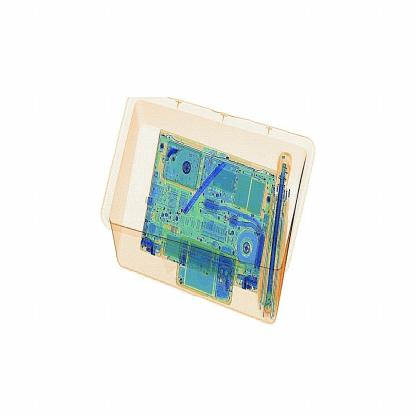pliers: (178, 151, 234, 217)
